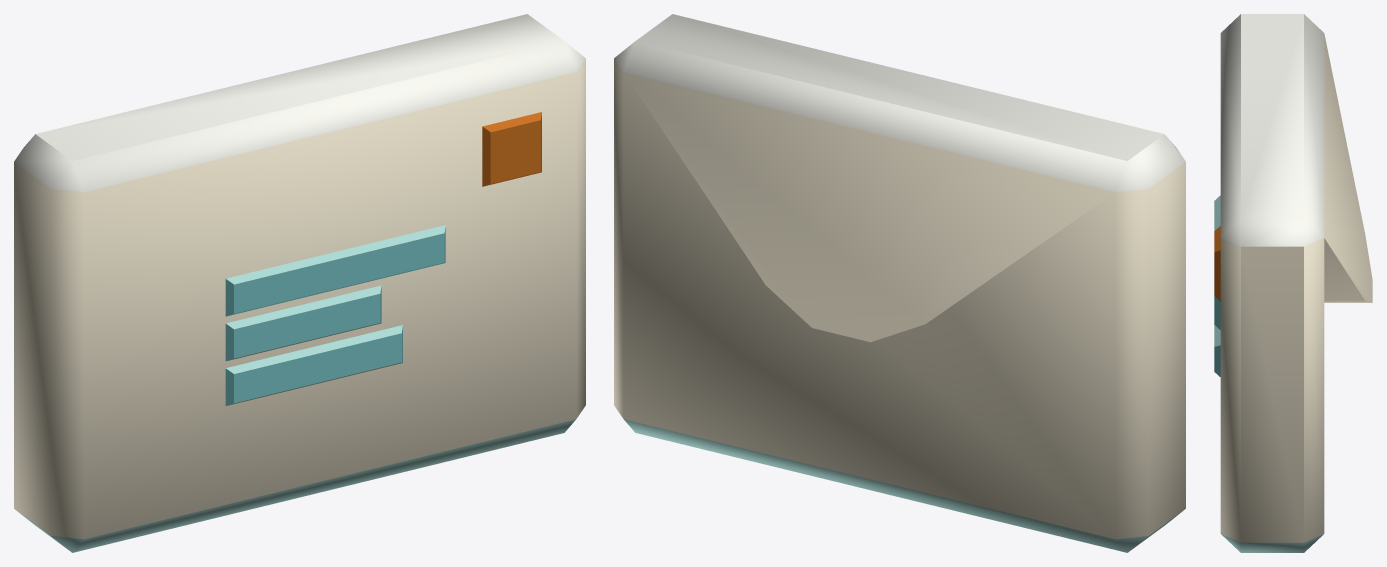
Rendered from itch_tiny_homely_house_letter.glb.
The picture shows the model from 3 angles, left to right: view 1: azimuth 30°, elevation 25°; view 2: azimuth 150°, elevation 25°; view 3: azimuth 270°, elevation 25°; orthographic projection. The views are drawn at different scales.
Visible parts, largest first — view 1: letter; view 2: letter; view 3: letter.
Boxes of the visible parts, x1=… form: letter: x1=14, y1=14, x2=585, y2=552; letter: x1=614, y1=14, x2=1185, y2=552; letter: x1=1214, y1=14, x2=1372, y2=552.
Size of the model in its own units: 0.42 by 0.294 by 0.126.
